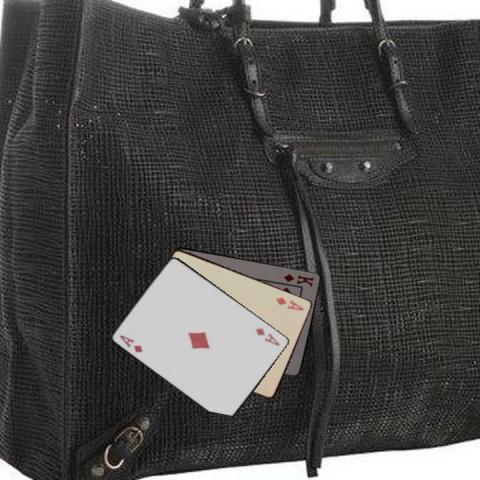Ad: (253, 325, 282, 347), (117, 332, 144, 354), (274, 294, 306, 312)
Kd: (281, 271, 315, 287)
